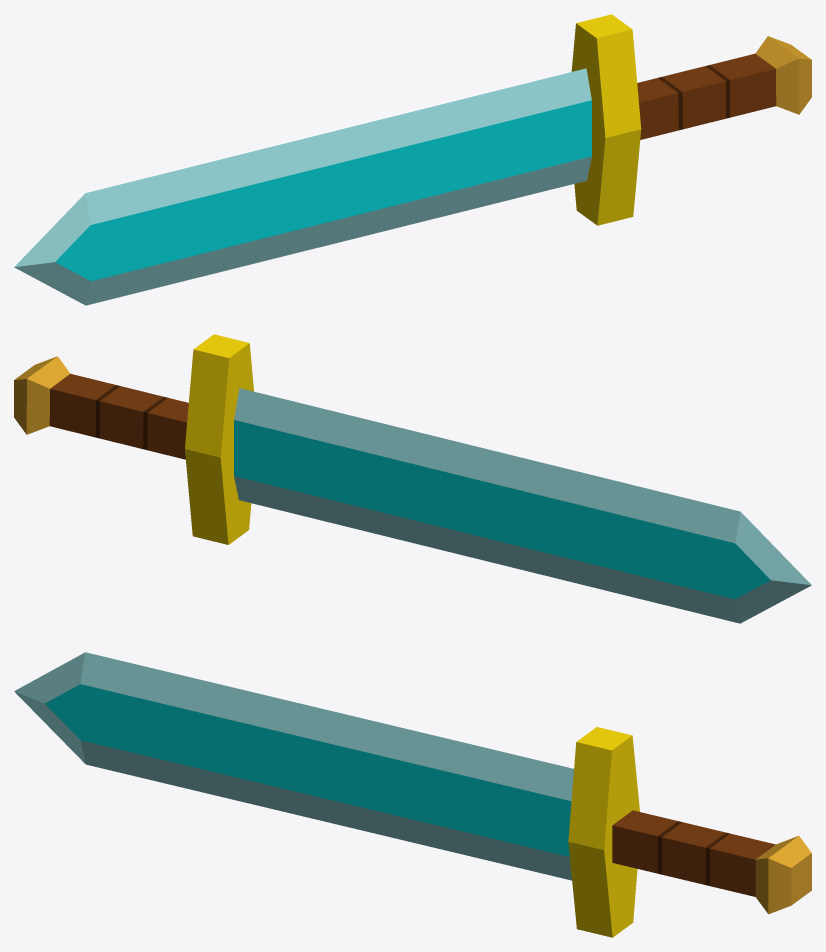
The model's file is IceSword.FBX.
The picture shows the model from 3 angles, top to bottom: view 1: azimuth 30°, elevation 25°; view 2: azimuth 150°, elevation 25°; view 3: azimuth 330°, elevation 25°; orthographic projection.
Visible parts, largest first — view 1: Sword; view 2: Sword; view 3: Sword.
Boxes of the visible parts, x1=… form: Sword: x1=14, y1=14, x2=811, y2=305; Sword: x1=14, y1=334, x2=811, y2=623; Sword: x1=14, y1=652, x2=811, y2=937.
Bounding box in the file's own units: 132 × 10.81 × 30.02.
Materials: 1 (1 with a texture image).
